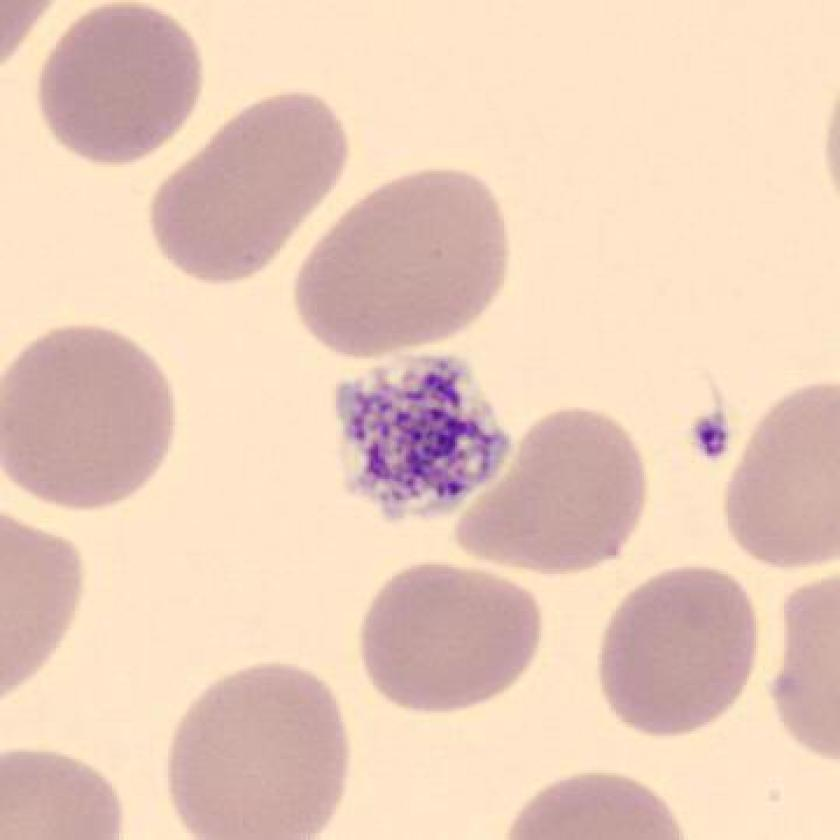platelets: (321, 341, 531, 545)
